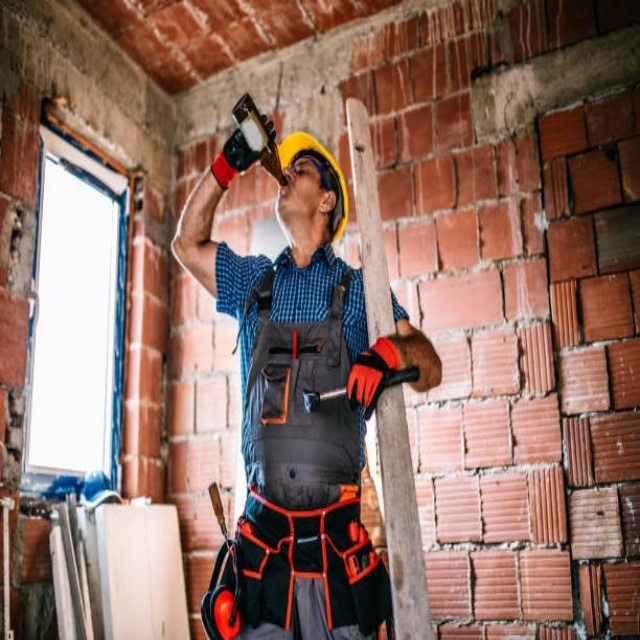Gafas: (284, 149, 332, 195)
Guantes: (205, 110, 278, 191), (343, 326, 404, 408)
